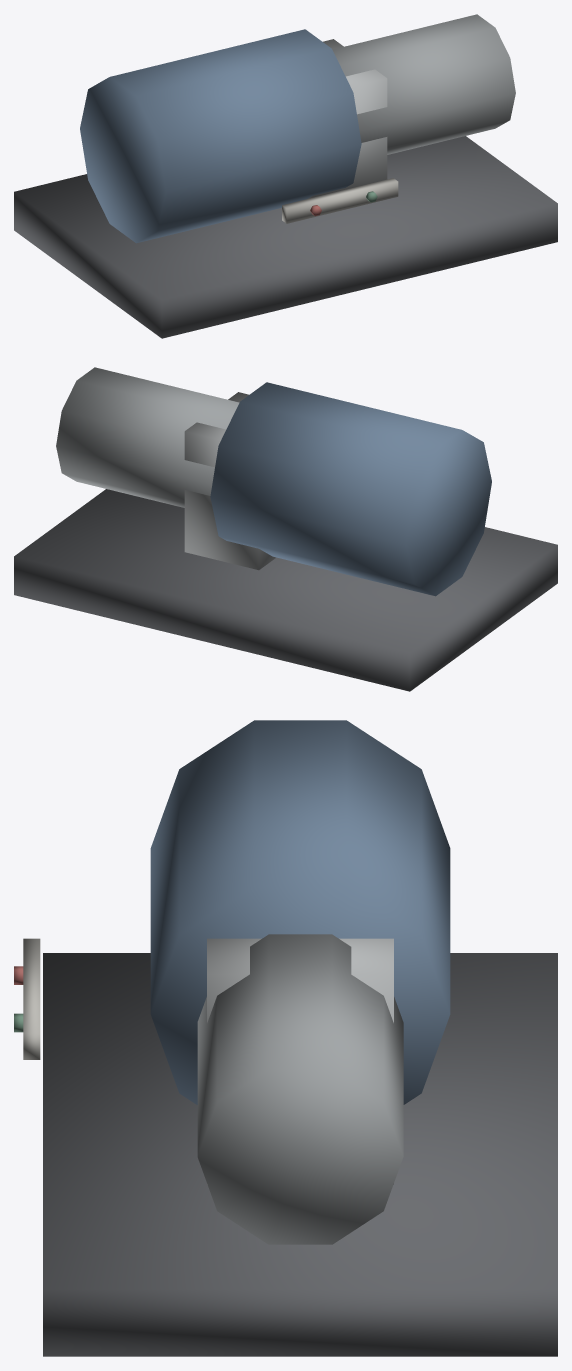
Rendered from circulation_pump__reinforced.glb.
The picture shows the model from 3 angles, top to bottom: view 1: azimuth 30°, elevation 25°; view 2: azimuth 150°, elevation 25°; view 3: azimuth 270°, elevation 25°; orthographic projection. The views are drawn at different scales.
Parts seen in each view (by area): view 1: world; view 2: world; view 3: world.
Boxes of the visible parts, <box> form: world: <box>14,14,557,338</box>; world: <box>14,367,557,691</box>; world: <box>14,720,557,1356</box>.
Bounding box in the file's own units: 0.8807 × 0.4 × 0.5984.
